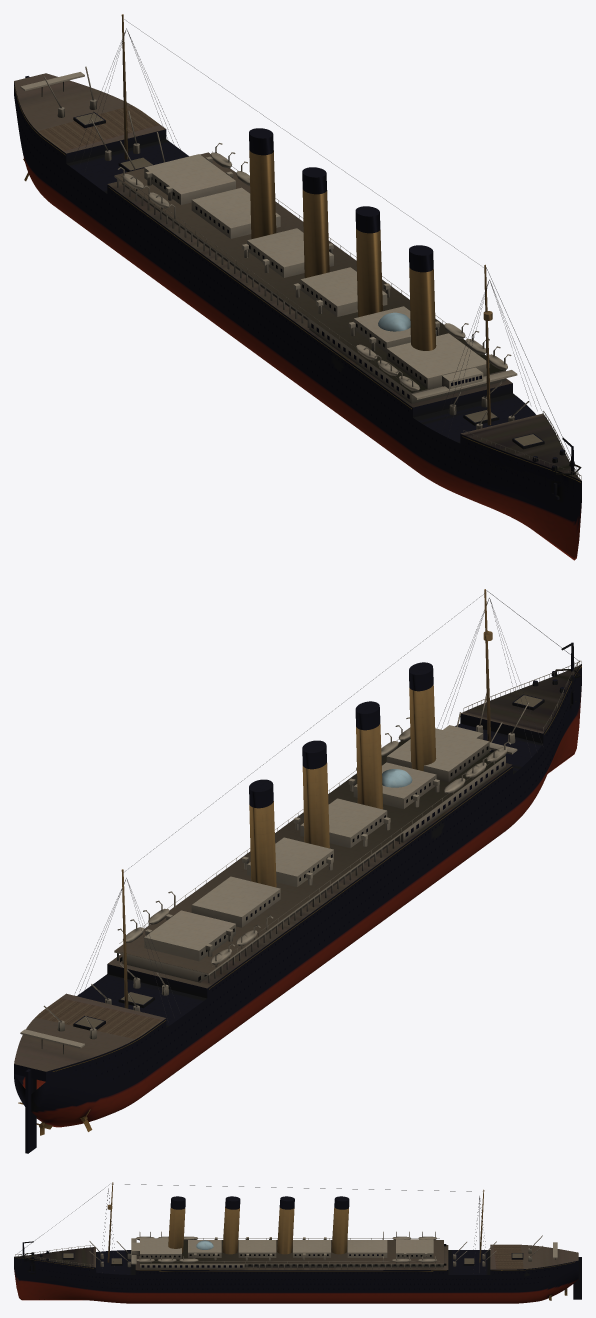
File: model_built.glb
The picture shows the model from 3 angles, top to bottom: view 1: azimuth 30°, elevation 25°; view 2: azimuth 150°, elevation 25°; view 3: azimuth 270°, elevation 25°; orthographic projection. The views are drawn at different scales.
Parts seen in each view (by area): view 1: main; view 2: main; view 3: main.
Boxes of the visible parts, x1=… form: main: x1=14, y1=14, x2=581, y2=560; main: x1=14, y1=589, x2=581, y2=1153; main: x1=14, y1=1182, x2=581, y2=1303.
Size of the model in its own units: 29.48 by 61.96 by 271.
3 materials, 2 textured.
